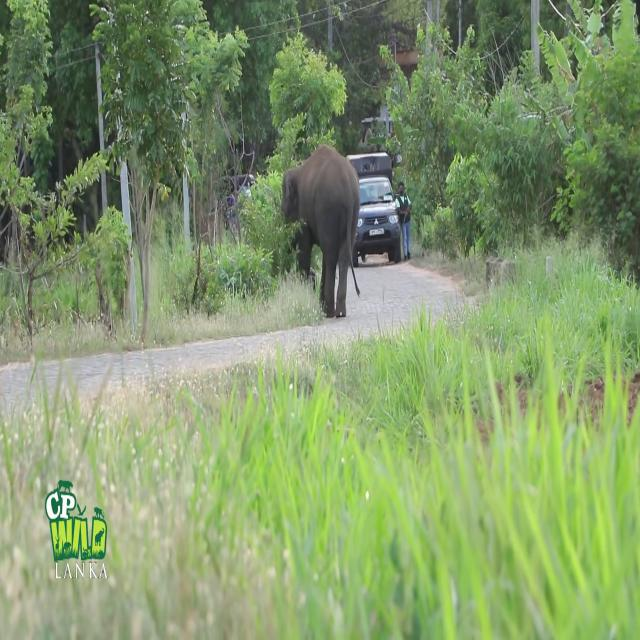Elephant: (280, 144, 361, 318)
person: (394, 180, 412, 260)
